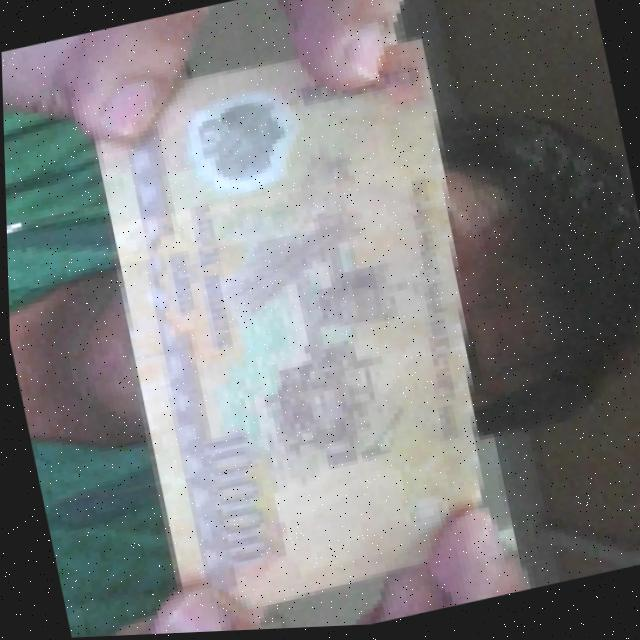10 000 VND: (71, 19, 535, 636)
